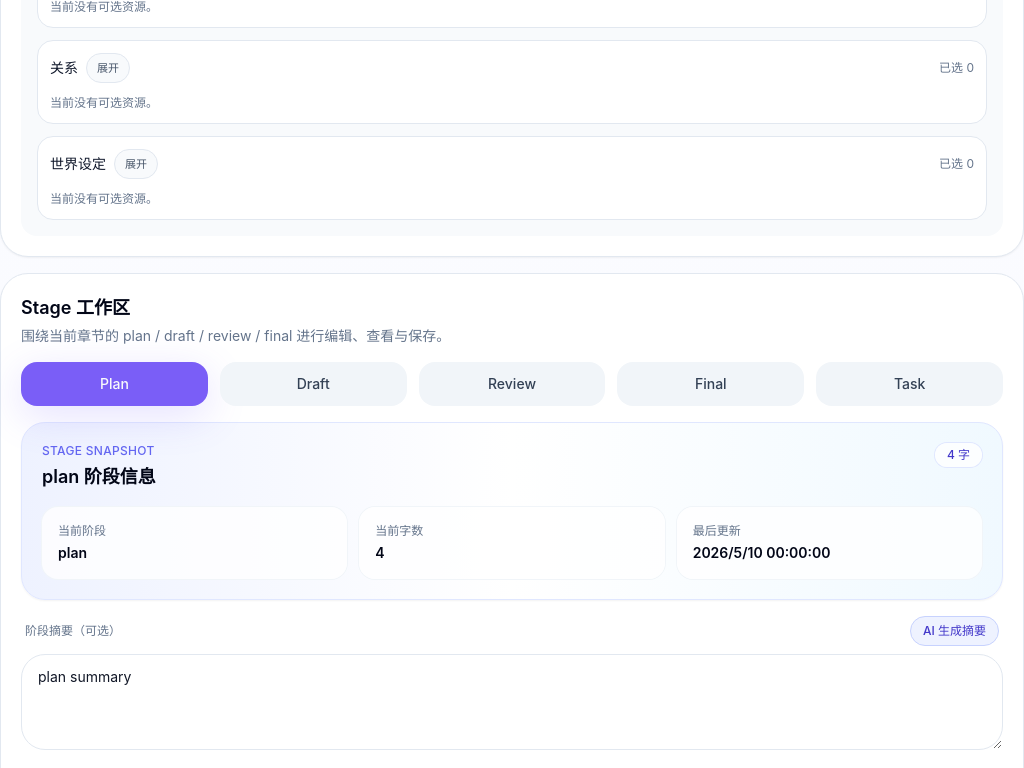
Scenario: ChapterWorkbenchPage › shows current word count based on active stage content instead of shared metadata
(page scrolled)
Expected: the text "4 字" is shown, x1=935 y1=443 x2=982 y2=467
Expected: the text "当前字数" is shown, x1=375 y1=523 x2=423 y2=538
Click the button "Draft" at (313,384), box x1=220 y1=362 x2=407 y2=406
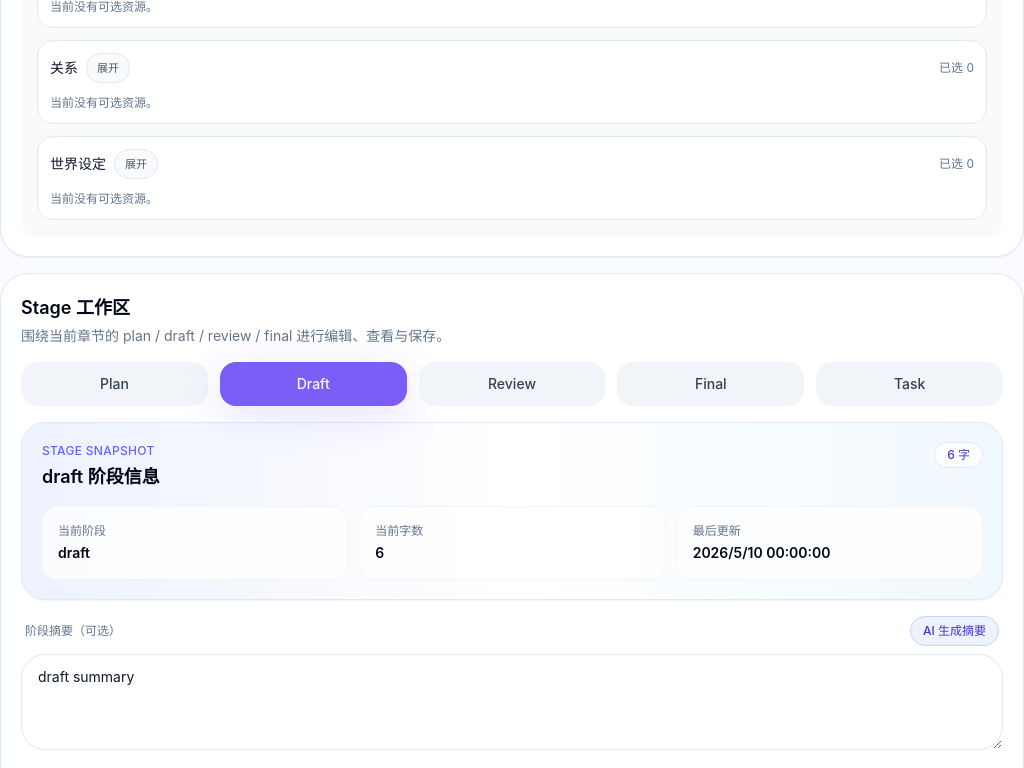
Now the text "6 字" is shown, box x1=935 y1=443 x2=982 y2=467
Now the text "6" is shown, box x1=375 y1=544 x2=384 y2=561
Click the button "Review" at (512,384), box x1=419 y1=362 x2=605 y2=406
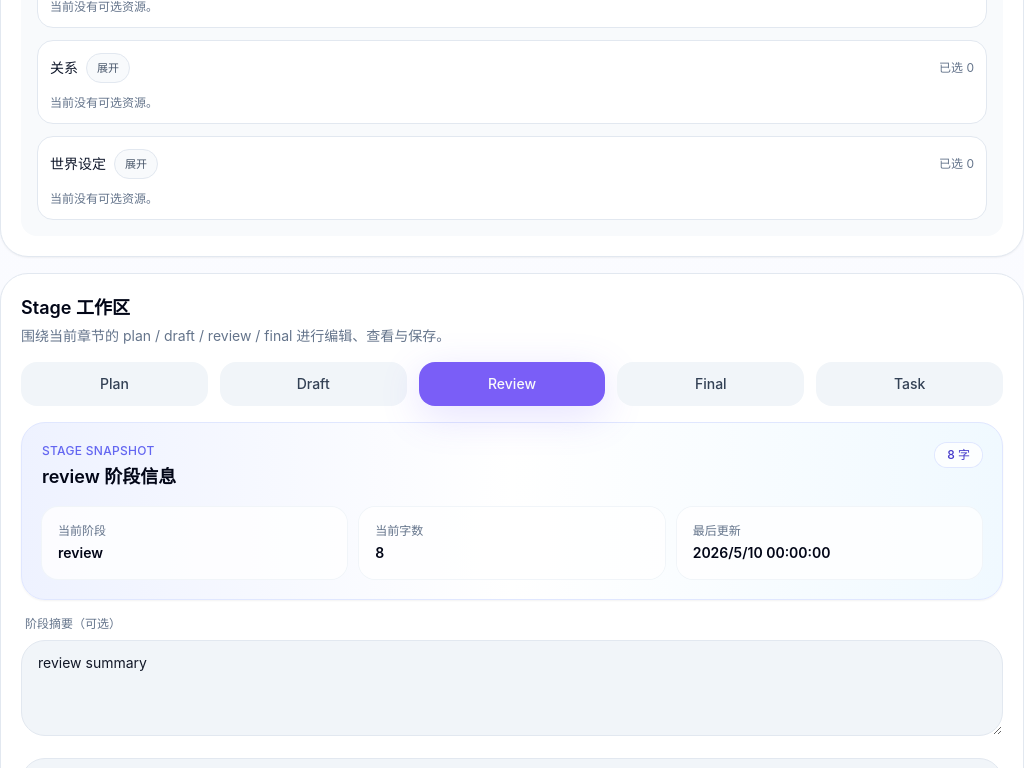
Now the text "8 字" is shown, box x1=935 y1=443 x2=982 y2=467
Now the text "8" is shown, box x1=375 y1=544 x2=384 y2=561
